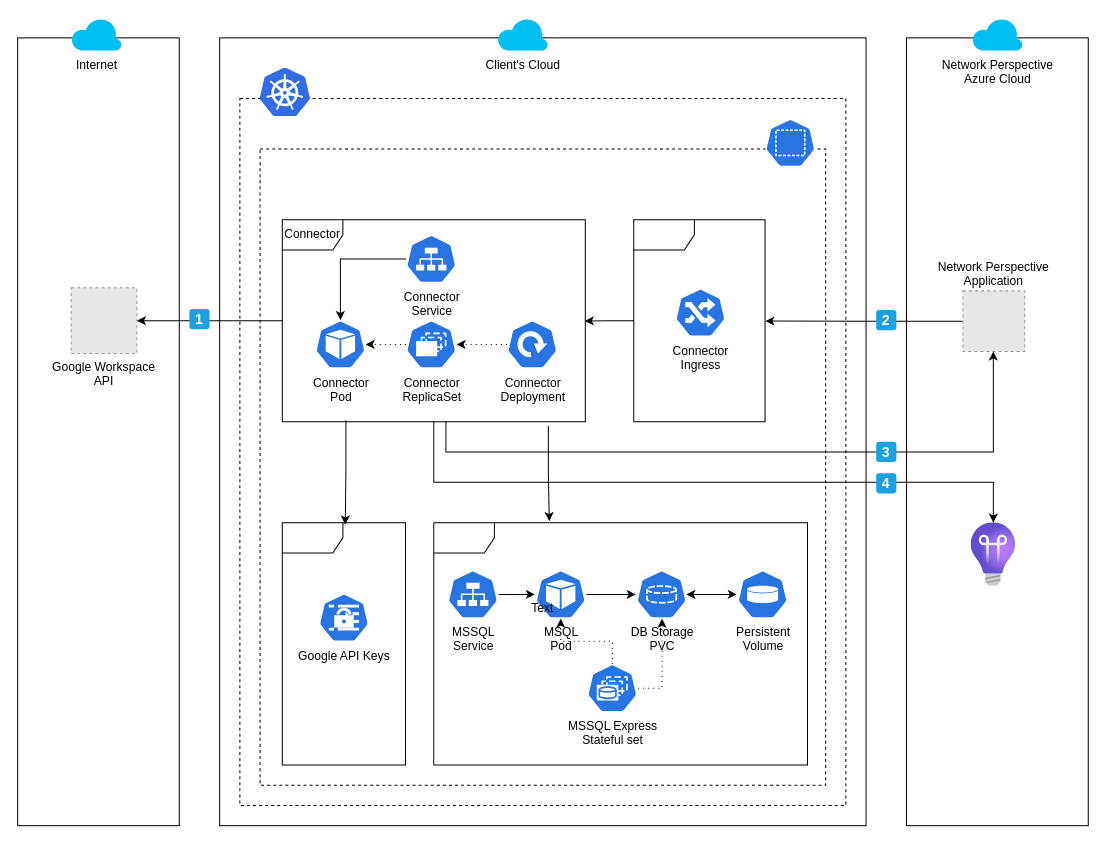
The diagram is 1106 pixels wide and 843 high, and some of its shapes have lost their labels. Grey dashed boxes stand in for pictures. The centre of each missing label's shape, as x and y in pixels:
Application insights: the point at 993,554
Ingress: the point at 699,320
Kubernetes: the point at 285,92
MSSQL: the point at 620,643
Namespace: the point at 790,142
Vault: the point at 343,643
